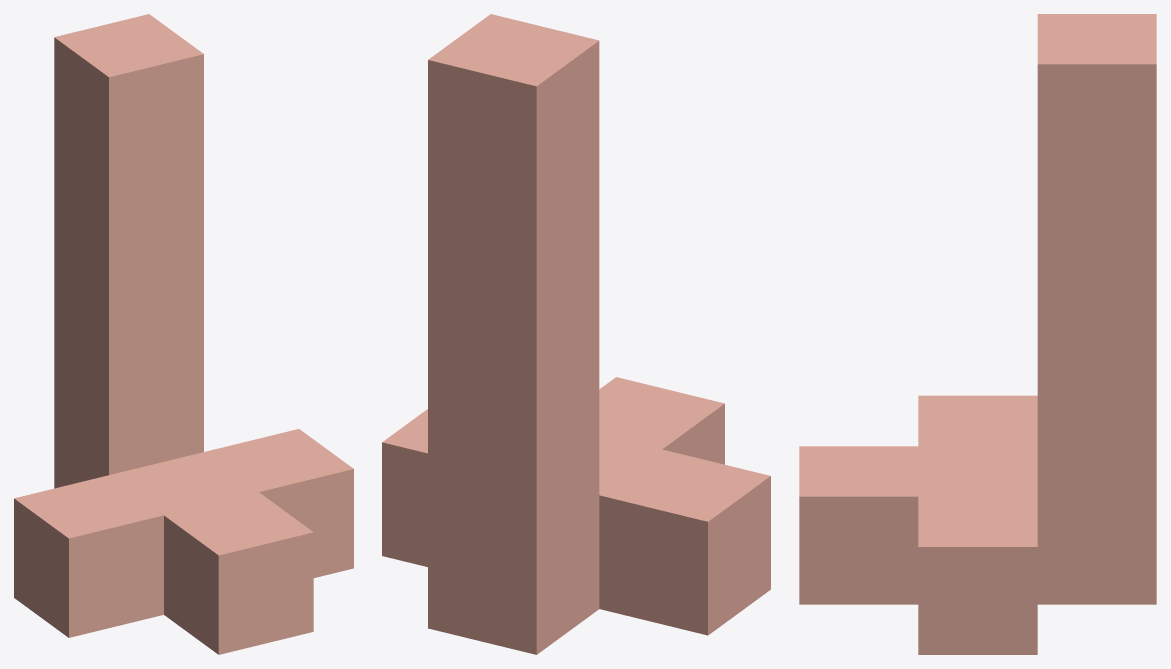
Rendered from turkey__leg_l.glb.
The picture shows the model from 3 angles, left to right: view 1: azimuth 30°, elevation 25°; view 2: azimuth 150°, elevation 25°; view 3: azimuth 270°, elevation 25°; orthographic projection. The views are drawn at different scales.
Parts seen in each view (by area): view 1: turkey__leg_l; view 2: turkey__leg_l; view 3: turkey__leg_l.
Boxes of the visible parts, box(x1,y1,x2,y2) form: turkey__leg_l: box(14, 14, 353, 654); turkey__leg_l: box(382, 14, 770, 654); turkey__leg_l: box(799, 14, 1156, 654).
Bounding box in the file's own units: 0.3 × 0.5 × 0.3.
1 material, 1 textured.
